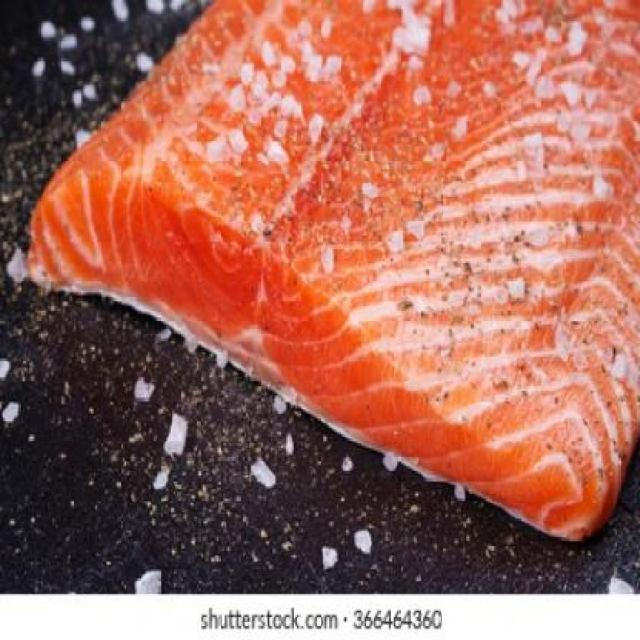salmon: (32, 3, 640, 556)
